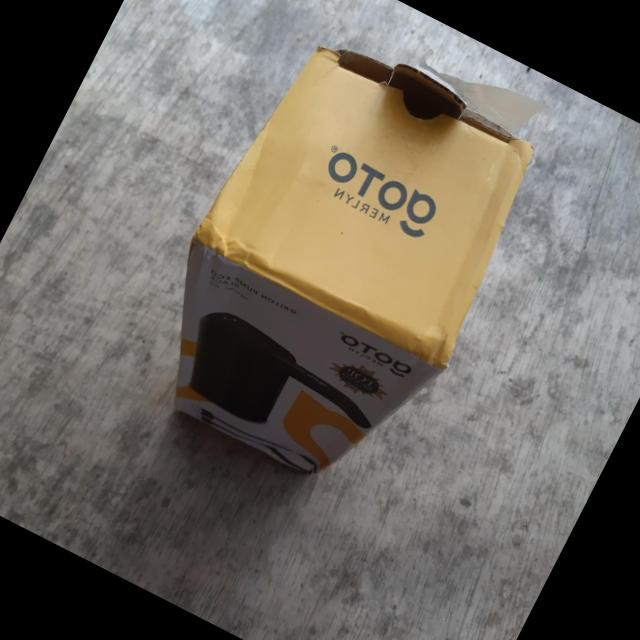Kardus: (117, 0, 570, 514)
